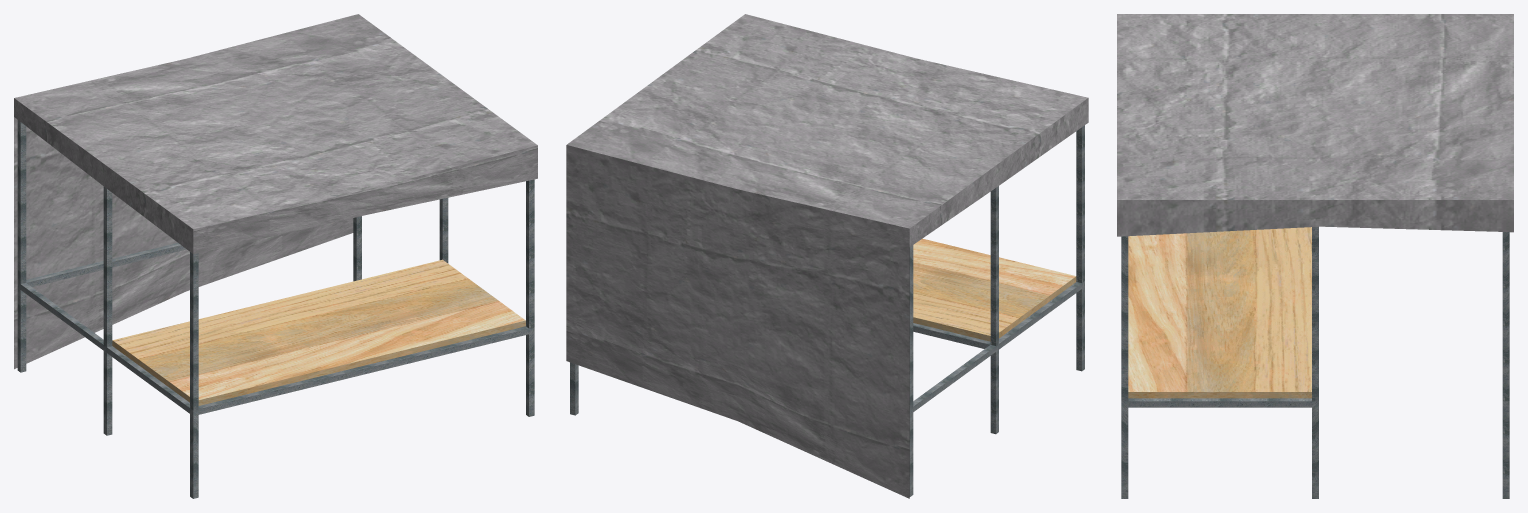
The model's file is marketstall01_sfxrf.obj.
3 views of the same model, side by side, from view 1: azimuth 30°, elevation 25°; view 2: azimuth 150°, elevation 25°; view 3: azimuth 270°, elevation 25° (orthographic). The views are drawn at different scales.
Parts seen in each view (by area): view 1: marketstall01_SFXRF; view 2: marketstall01_SFXRF; view 3: marketstall01_SFXRF.
Boxes of the visible parts, x1,y1,x2,y2 form: marketstall01_SFXRF: (14,14,537,498); marketstall01_SFXRF: (566,14,1088,498); marketstall01_SFXRF: (1117,14,1513,498).
Bounding box in the file's own units: 3.13 × 2.36 × 2.82.
3 materials, 3 textured.
